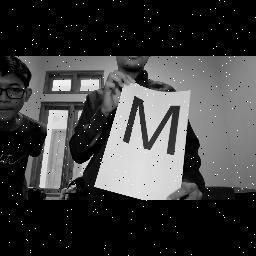m: (120, 94, 182, 158)
